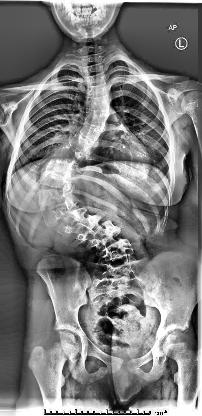Vertebrae: (88, 219, 124, 249), (59, 201, 89, 237), (98, 236, 134, 264), (70, 209, 100, 242), (37, 188, 78, 210), (44, 200, 80, 224), (34, 170, 74, 190), (45, 155, 76, 179), (58, 144, 84, 168), (80, 124, 106, 145), (84, 108, 111, 128), (72, 135, 94, 155), (87, 95, 117, 109), (87, 84, 113, 98), (82, 64, 108, 76), (85, 74, 109, 86)
